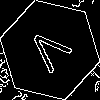V: (25, 25, 80, 81)
